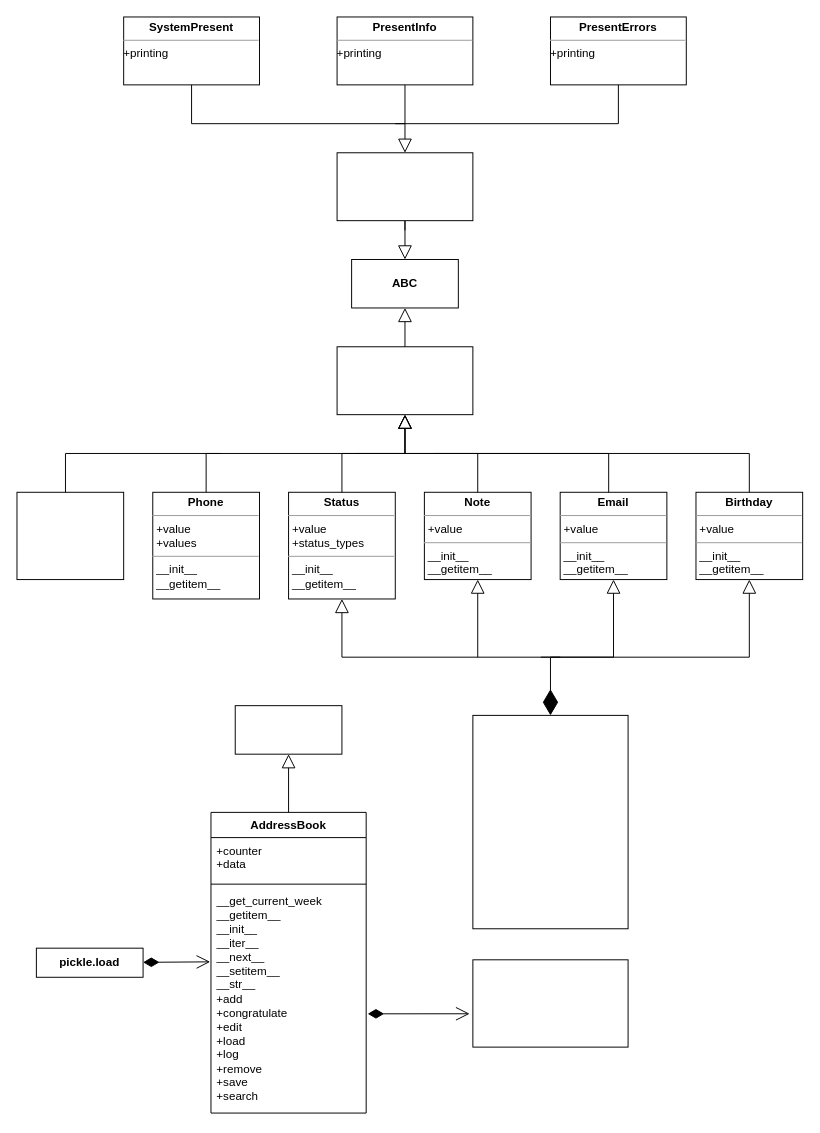
The diagram is 820 pixels wide and 1133 high, and some of its shapes have lost their labels. The centre of each missing label's shape, as x and y in pixels:
Bot +book __init__ +handle: the point at 550,1003
Field __getitem__: the point at 404,380
Name +value __init__ __getitem__: the point at 70,535
Present printing: the point at 404,186
Record +birthday +name +phones +email +status +note __init__ +days_to_birthday: the point at 550,821
UserList: the point at 288,729
